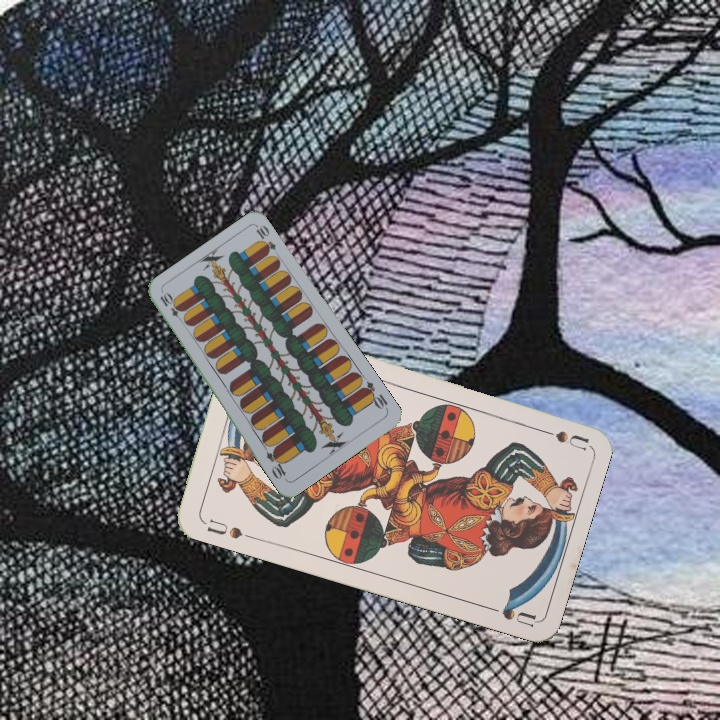E10: (358, 377, 391, 413), (156, 289, 187, 325)
SU: (530, 423, 589, 453), (199, 515, 256, 542)
